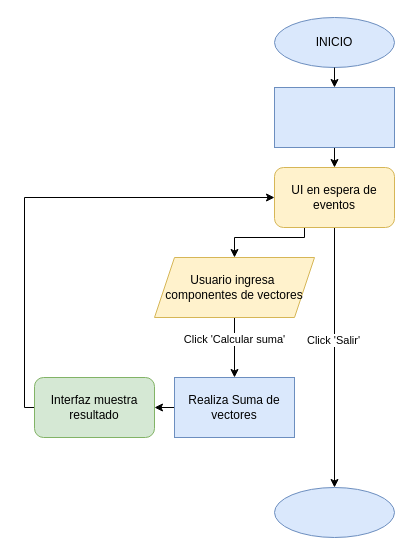
The diagram is 412 pixels wide and 555 high, and some of its shapes have lost their labels. Each missing label, with the centre of its shape:
FIN: point (334, 512)
Inicialización de aplicación: point (334, 117)
